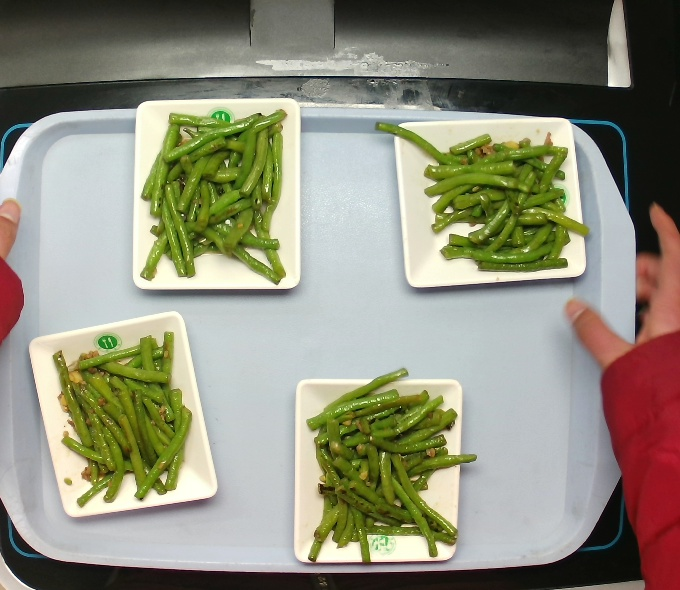wcq-RouMoJiangDou: (394, 122, 594, 290), (302, 377, 466, 571), (42, 318, 200, 519), (137, 102, 294, 290)
